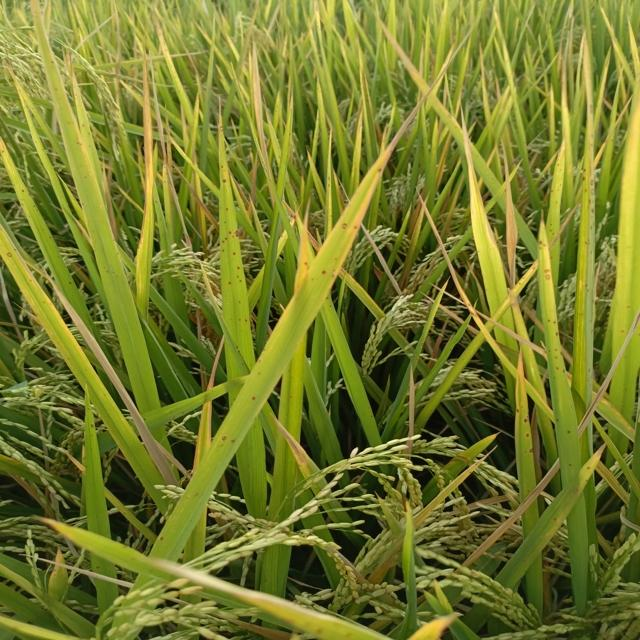Brown spot: (457, 294, 541, 352), (265, 408, 326, 478), (378, 87, 427, 161), (498, 172, 526, 275), (276, 195, 326, 252), (137, 63, 158, 190), (410, 199, 443, 260), (407, 370, 421, 437)
insects: (211, 122, 256, 366), (532, 220, 572, 388), (575, 114, 600, 306), (512, 397, 538, 500), (251, 343, 271, 390), (309, 256, 340, 286), (80, 119, 96, 150), (556, 415, 578, 435), (336, 221, 359, 235), (547, 507, 562, 527), (245, 391, 261, 405), (566, 454, 576, 474), (46, 57, 59, 72), (65, 117, 78, 132), (569, 484, 584, 497), (326, 172, 334, 192), (50, 83, 63, 95), (585, 463, 593, 479), (375, 163, 382, 176), (72, 138, 82, 146)
